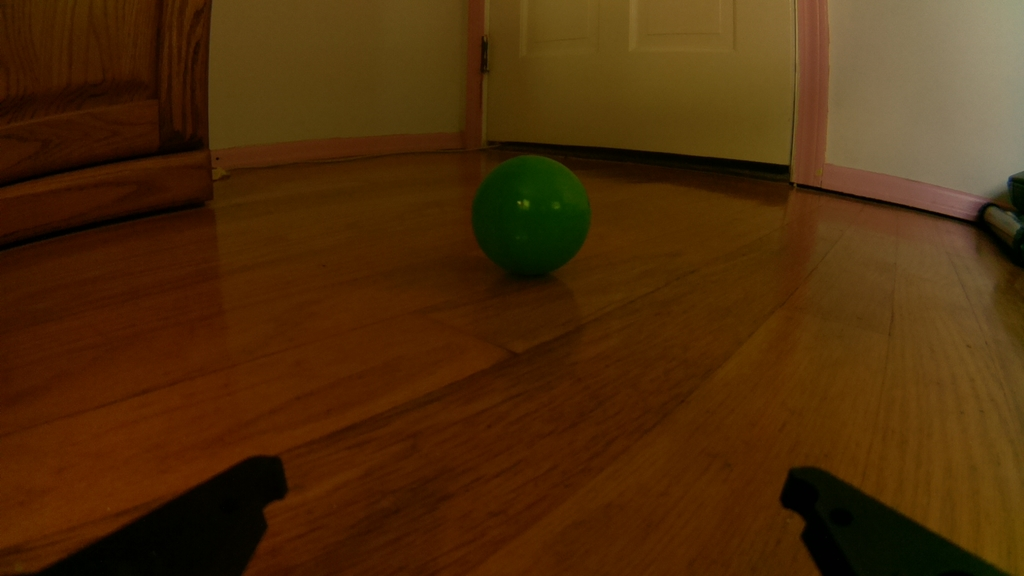ball: (468, 152, 592, 274)
